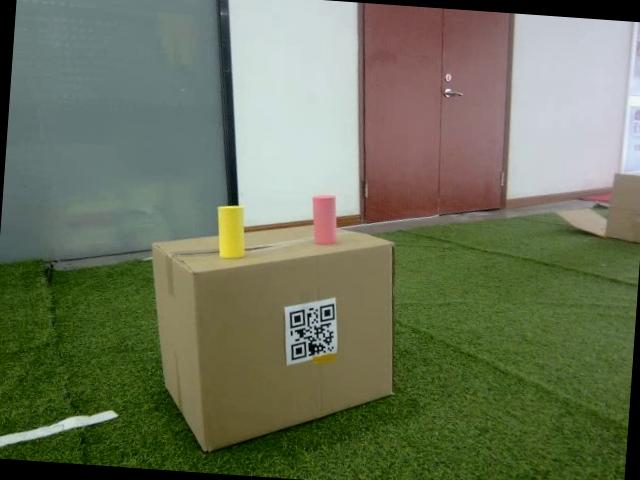red_cylinder: (308, 193, 342, 246)
yellow_cylinder: (212, 200, 250, 260)
